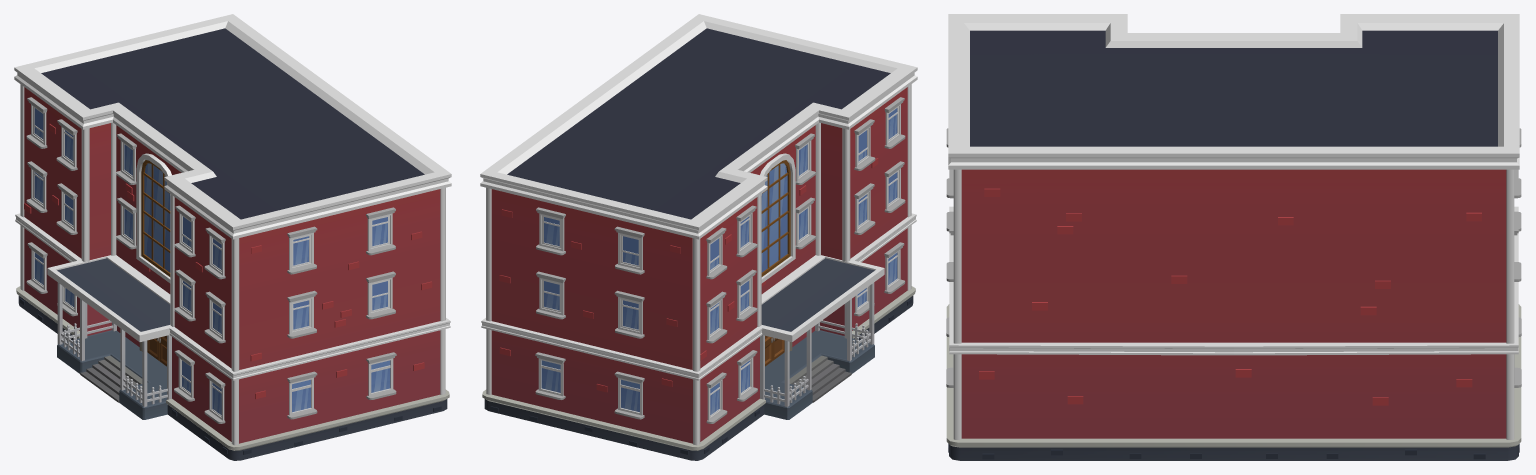
The model's file is Building_5_2_J.fbx.
The picture shows the model from 3 angles, left to right: view 1: azimuth 30°, elevation 25°; view 2: azimuth 150°, elevation 25°; view 3: azimuth 270°, elevation 25°; orthographic projection. The views are drawn at different scales.
Visible parts, largest first — view 1: Building_5_2_J; view 2: Building_5_2_J; view 3: Building_5_2_J.
Boxes of the visible parts, x1,y1,x2,y2 form: Building_5_2_J: (14, 14, 451, 460); Building_5_2_J: (480, 14, 917, 460); Building_5_2_J: (946, 14, 1521, 460).
Size of the model in its own units: 1251 by 1126 by 1908.
